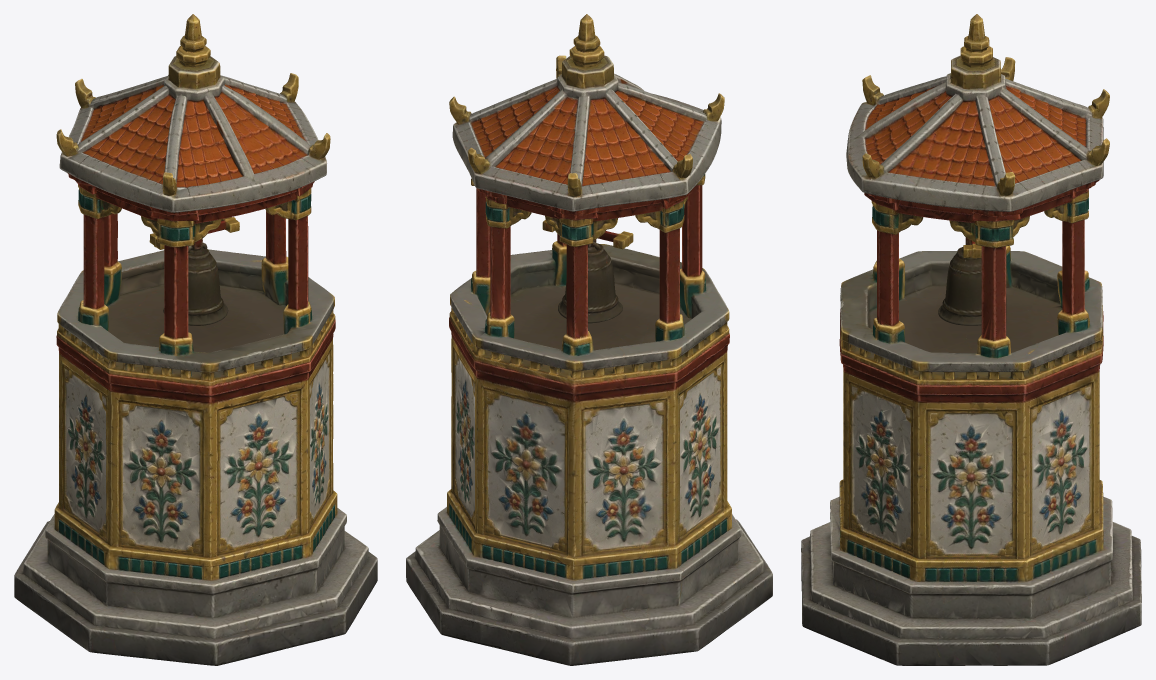
The model's file is bq_sword_pav.hd.glb.
The picture shows the model from 3 angles, left to right: view 1: azimuth 30°, elevation 25°; view 2: azimuth 150°, elevation 25°; view 3: azimuth 270°, elevation 25°; orthographic projection.
Parts seen in each view (by area): view 1: mesh_node; view 2: mesh_node; view 3: mesh_node.
Boxes of the visible parts, left/top/right/bottom form: mesh_node: left=14, top=14, right=377, bottom=665; mesh_node: left=406, top=14, right=772, bottom=665; mesh_node: left=801, top=14, right=1141, bottom=665.
Size of the model in its own units: 1.01 by 1.9 by 1.01.
Materials: 1 (1 with a texture image).
